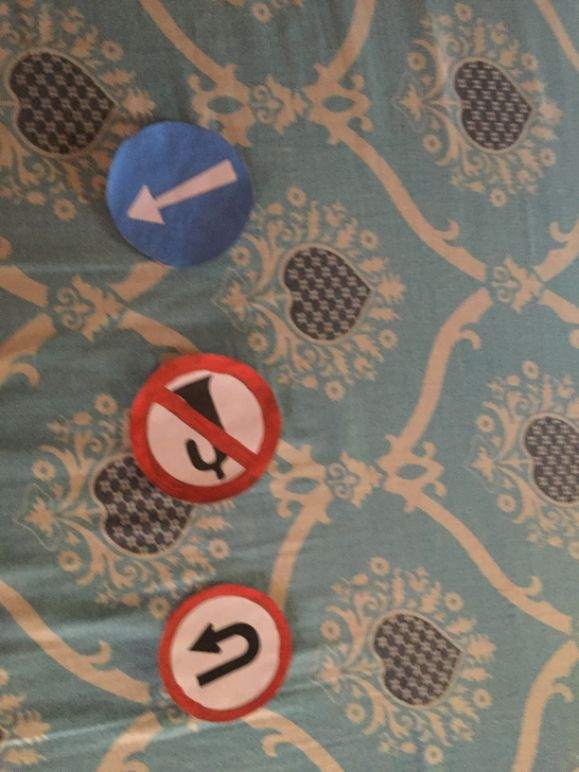keep-left: (99, 108, 259, 268)
no-horn: (126, 347, 283, 504)
u-turn: (155, 575, 308, 728)
